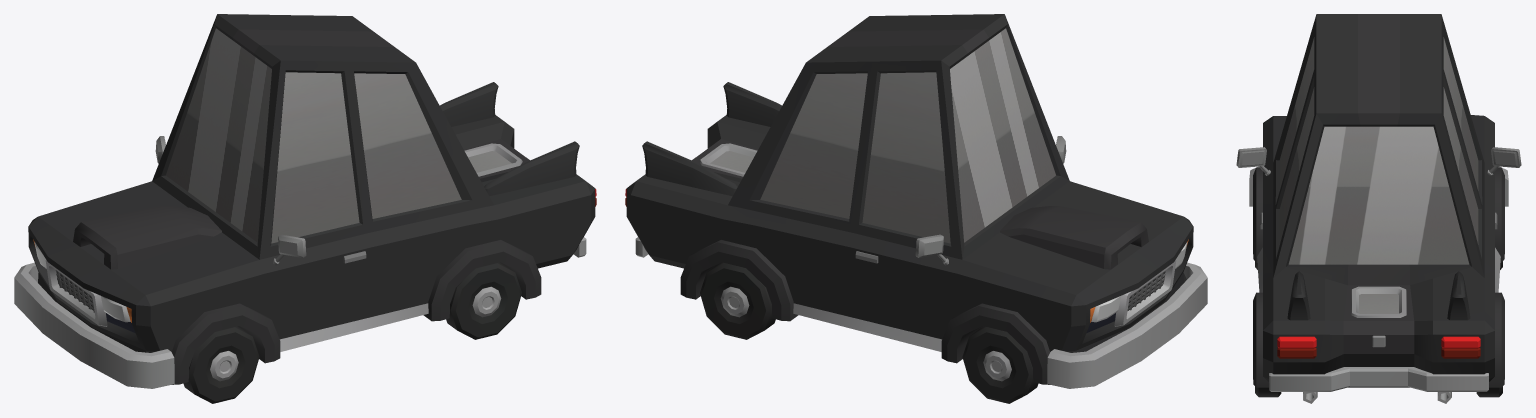
Rendered from Car_11_M.gltf.
The picture shows the model from 3 angles, left to right: view 1: azimuth 30°, elevation 25°; view 2: azimuth 150°, elevation 25°; view 3: azimuth 270°, elevation 25°; orthographic projection.
Parts seen in each view (by area): view 1: Car_11_M, RL, FL; view 2: Car_11_M, RR, FR; view 3: Car_11_M.
Part boxes in pixels (x1,y1,x2,y2): Car_11_M: [14, 14, 596, 388]; RL: [446, 262, 521, 339]; FL: [183, 326, 259, 403]; Car_11_M: [625, 14, 1207, 388]; RR: [700, 262, 775, 339]; FR: [962, 326, 1038, 403]; Car_11_M: [1236, 14, 1521, 403].
Size of the model in its own units: 3.58 by 2.1 by 1.85.
Materials: 3 (3 with a texture image).
